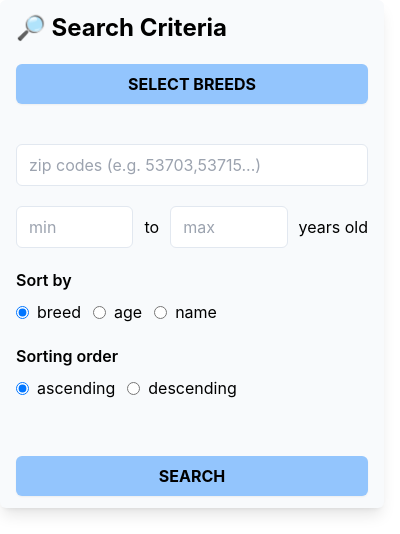
mal-formatted zip codes are prevented › 123ab        - expect error message
Type "123ab" into the field with placeholder "zip codes (e.g. 53703,53715...)" at (192, 165), box [16, 144, 368, 186]
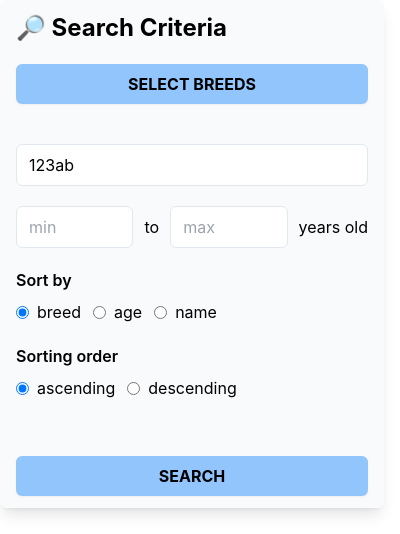
Click the button "SEARCH" at (192, 476), box [16, 456, 368, 496]
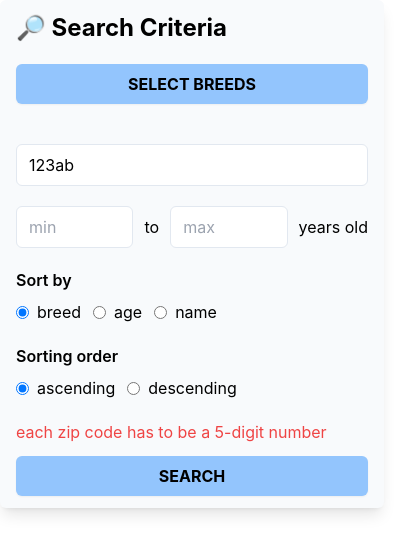
Check: the text "each zip code has to be a 5-digit number" is shown, box [16, 420, 368, 436]
